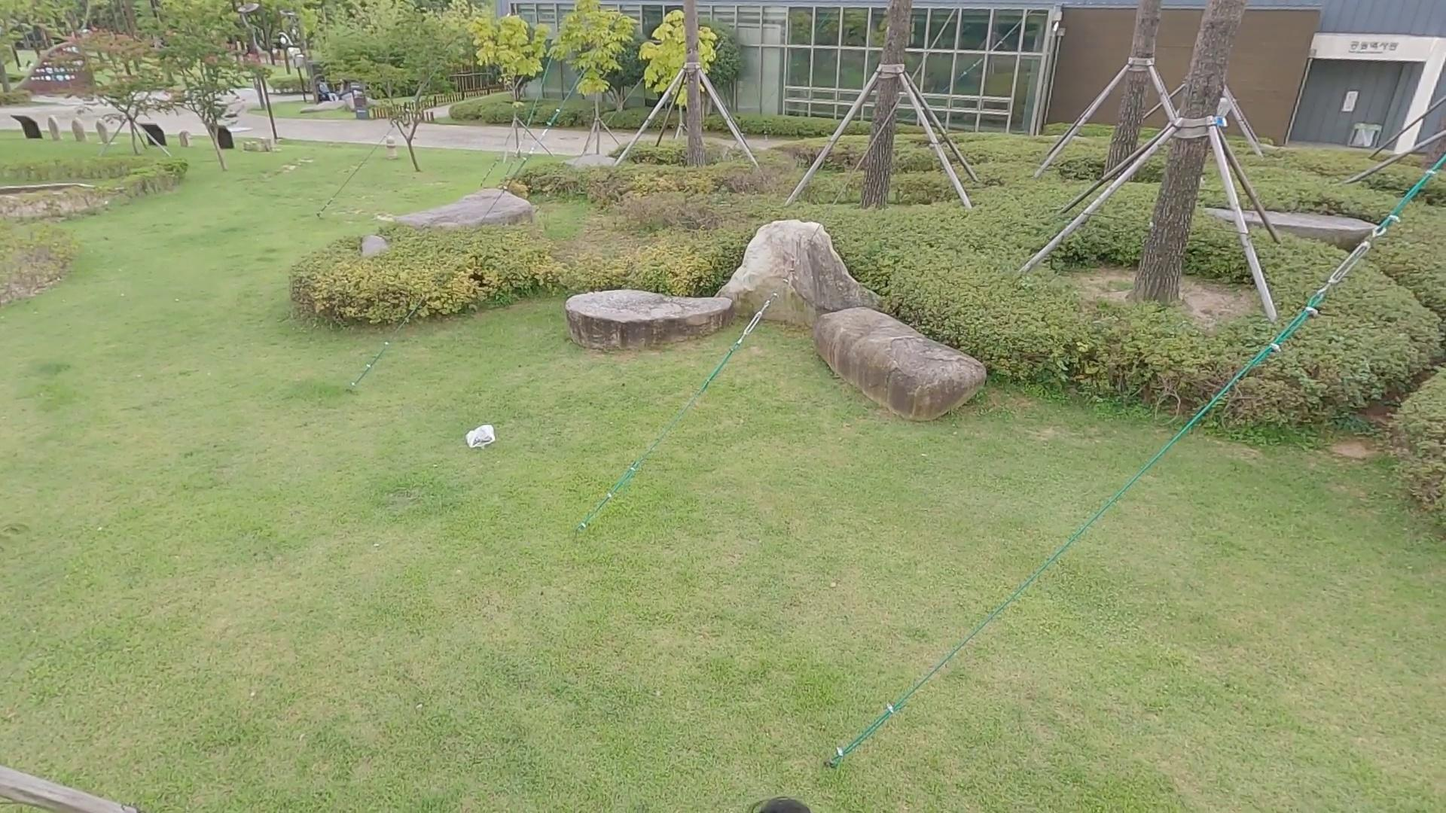trash: (466, 423, 496, 449)
